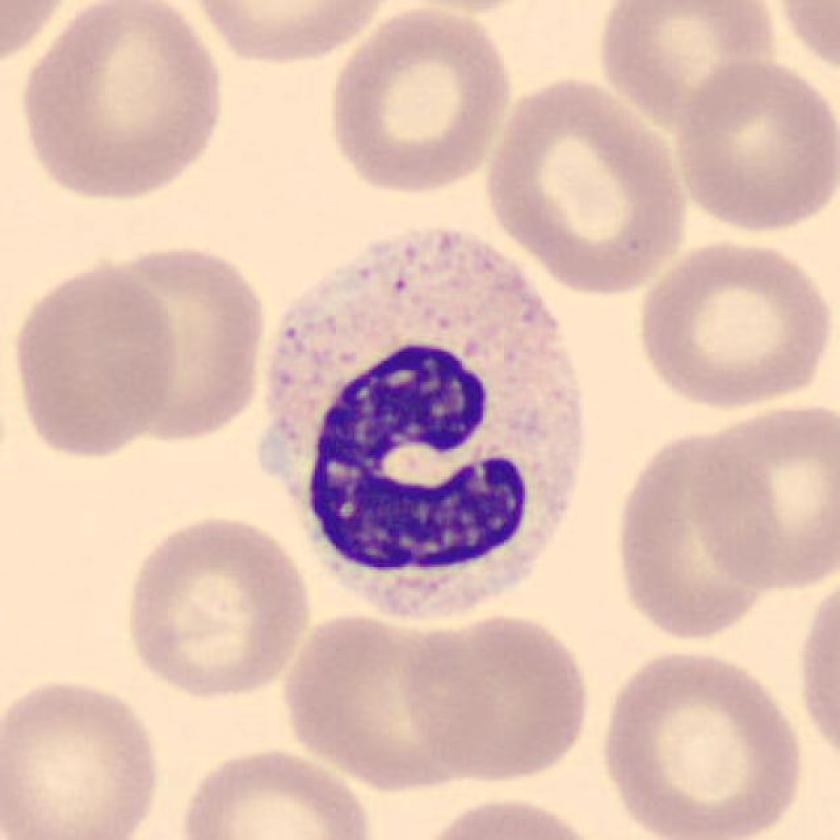neutrophil: (264, 231, 584, 617)
